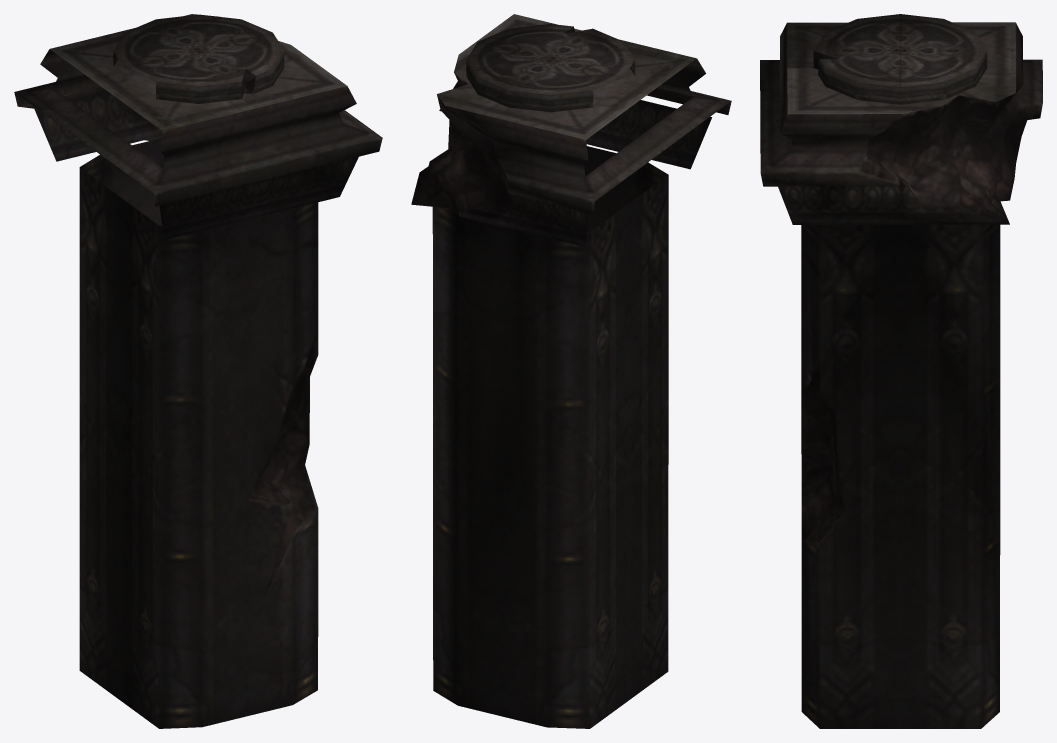
File: S2_Build_XSC113_L3.FBX
3 renders of one model, left to right at view 1: azimuth 30°, elevation 25°; view 2: azimuth 150°, elevation 25°; view 3: azimuth 270°, elevation 25°, orthographic. The views are drawn at different scales.
Visible parts, largest first — view 1: S2_Build_XSC113_L3; view 2: S2_Build_XSC113_L3; view 3: S2_Build_XSC113_L3.
Part boxes in pixels (left/top/right/bottom): S2_Build_XSC113_L3: left=14, top=14, right=382, bottom=728; S2_Build_XSC113_L3: left=411, top=14, right=731, bottom=728; S2_Build_XSC113_L3: left=760, top=14, right=1042, bottom=728.
Bounding box in the file's own units: 309 × 810 × 325.
Materials: 1 (1 with a texture image).
